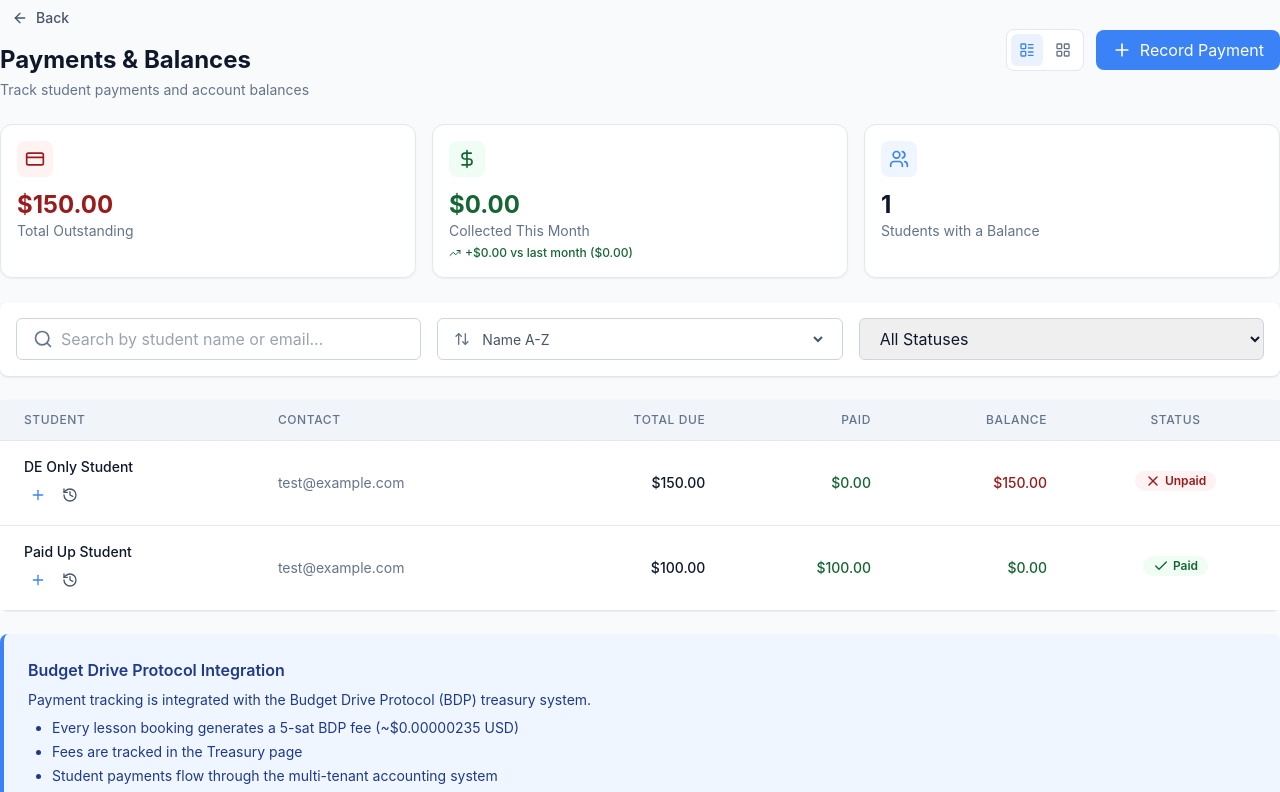
Test: Payments page - status filter reflects the combined balance (item 6) › filtering by "unpaid" includes a DE-only student whose combined paymentSummary says unpaid
This screenshot has width=1280, height=792.
Expected: the text "DE Only Student" is shown, left=24, top=458, right=133, bottom=475
Select "Unpaid" in the dropdown named "filter by payment status": (1061, 339) left=859, top=318, right=1264, bottom=360
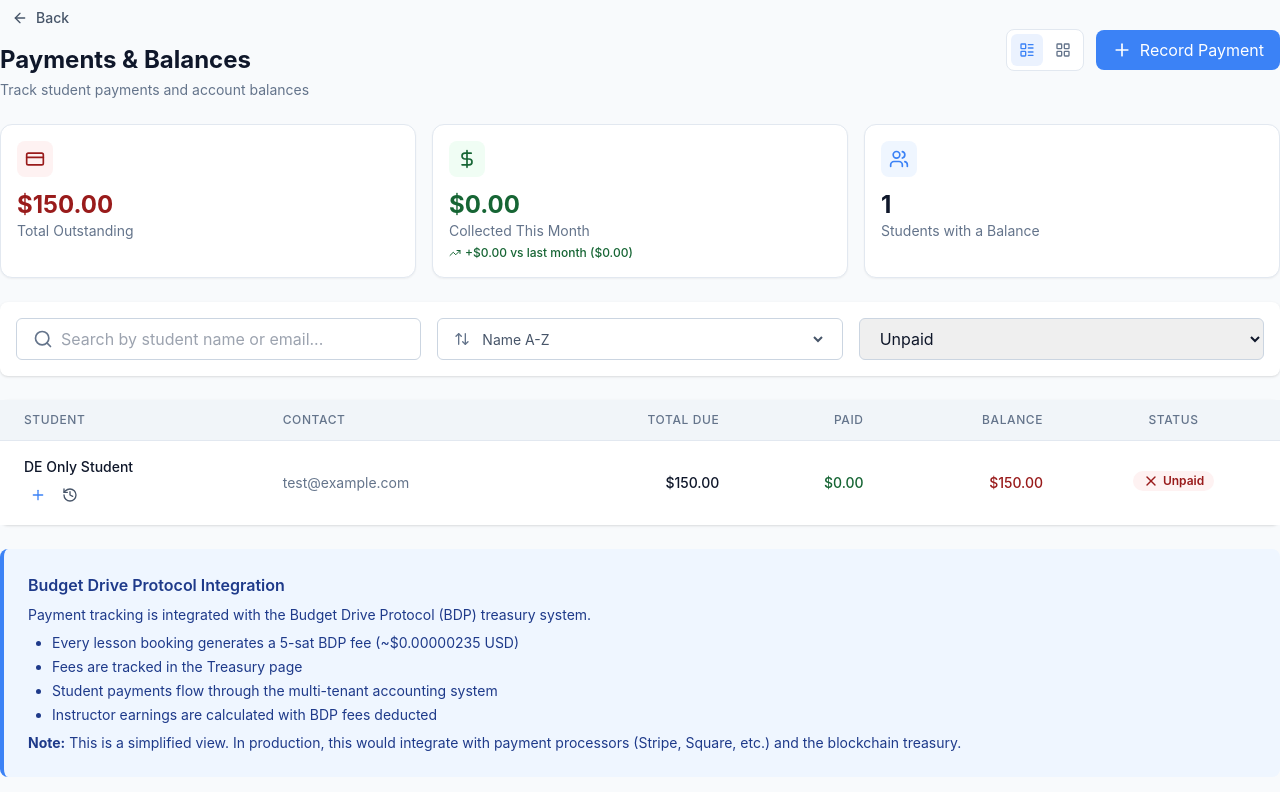
Expected: the text "DE Only Student" is shown, left=24, top=458, right=133, bottom=475
Now the text "Paid Up Student" is gone
